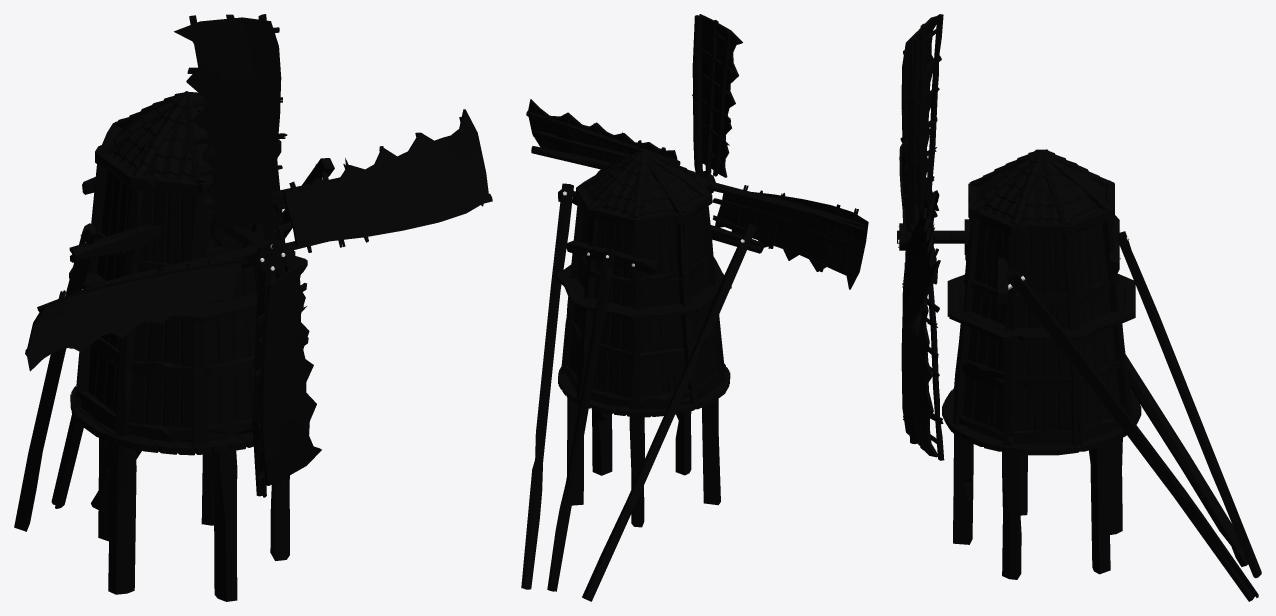
Rendered from sc-windmill.glb.
3 views of the same model, side by side, from view 1: azimuth 30°, elevation 25°; view 2: azimuth 150°, elevation 25°; view 3: azimuth 270°, elevation 25° (orthographic). The views are drawn at different scales.
Parts seen in each view (by area): view 1: SM_Bld_Windmill_01, SM_Bld_Windmill_01_Blades_01; view 2: SM_Bld_Windmill_01, SM_Bld_Windmill_01_Blades_01; view 3: SM_Bld_Windmill_01, SM_Bld_Windmill_01_Blades_01.
Boxes of the visible parts, box(x1,y1,x2,y2) form: SM_Bld_Windmill_01: box(14, 91, 339, 601); SM_Bld_Windmill_01_Blades_01: box(25, 14, 492, 497); SM_Bld_Windmill_01: box(521, 151, 764, 601); SM_Bld_Windmill_01_Blades_01: box(526, 14, 868, 289); SM_Bld_Windmill_01: box(942, 149, 1261, 601); SM_Bld_Windmill_01_Blades_01: box(897, 14, 964, 460).
Bounding box in the file's own units: 13.9 × 19 × 11.43.
2 materials, 2 textured.
